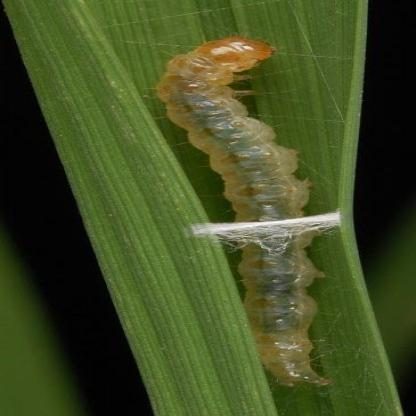leaf-folder: (124, 38, 378, 396)
